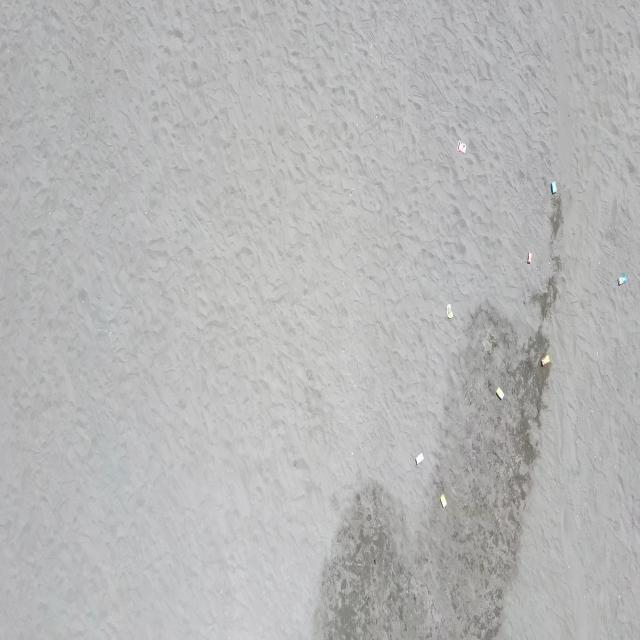Garbage: (540, 353, 550, 366), (617, 272, 627, 284), (456, 140, 466, 152), (495, 387, 503, 399), (415, 453, 423, 464), (440, 493, 446, 507), (447, 303, 452, 318), (550, 180, 555, 193), (527, 252, 531, 263)
